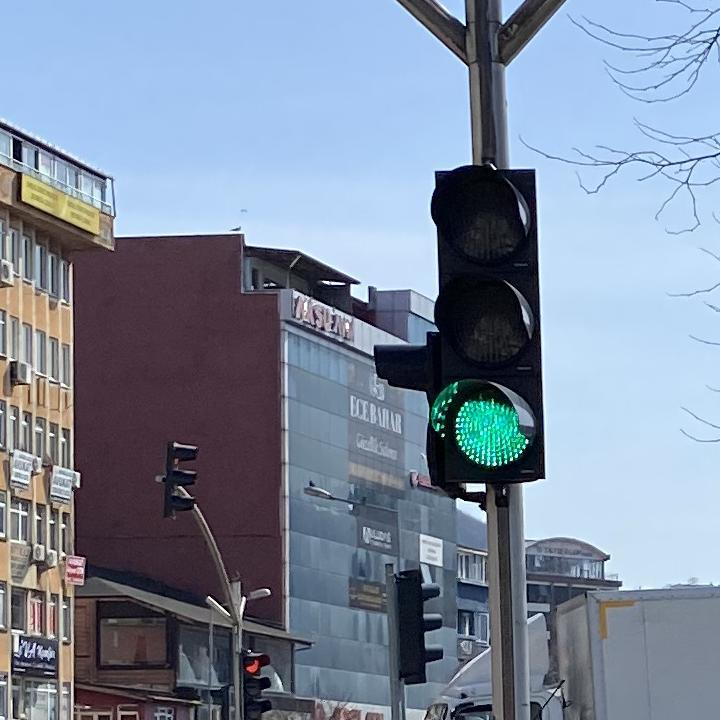green: (424, 161, 543, 482)
